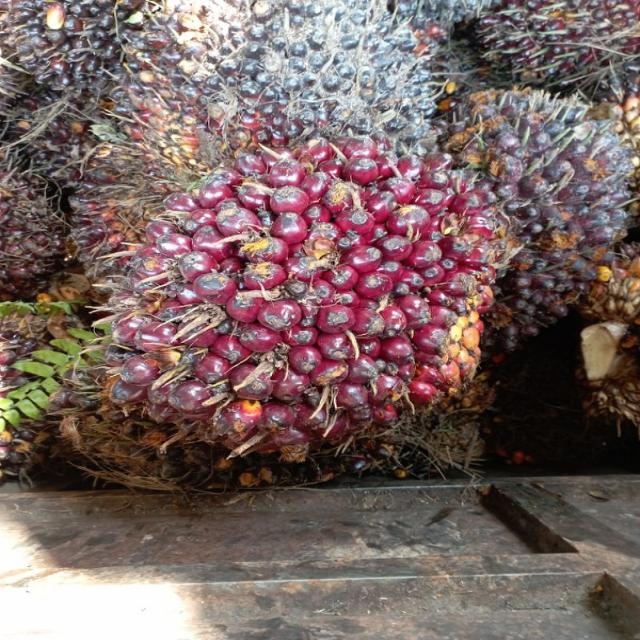fraksi 3: (28, 107, 592, 507)
